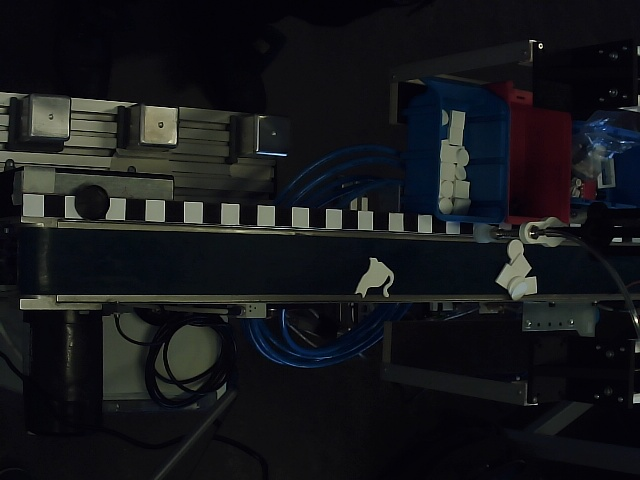cat: (355, 257, 395, 299)
